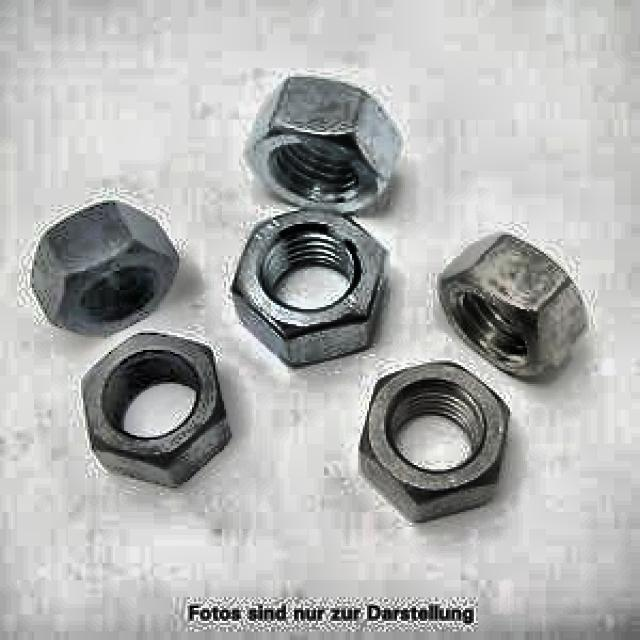Nut Detection - v1 Nut Dataset: (216, 205, 403, 369), (350, 350, 516, 529), (64, 324, 239, 486), (22, 192, 196, 341), (237, 66, 414, 209), (431, 226, 593, 378)
